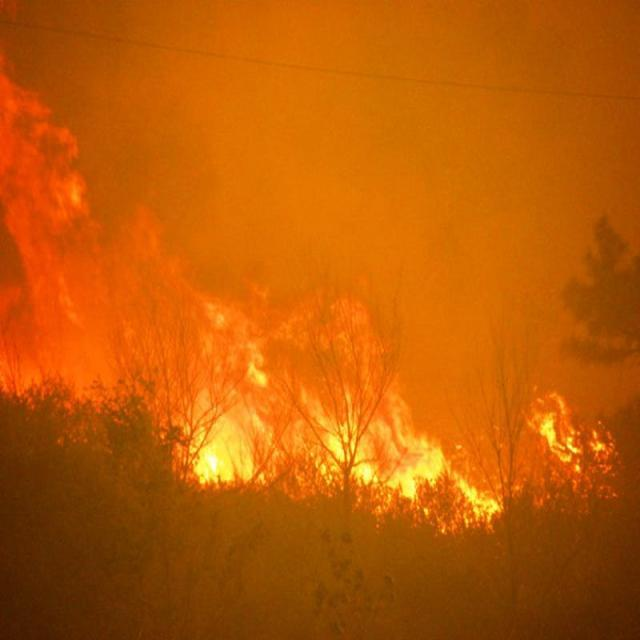Smoke: (0, 54, 185, 398)
